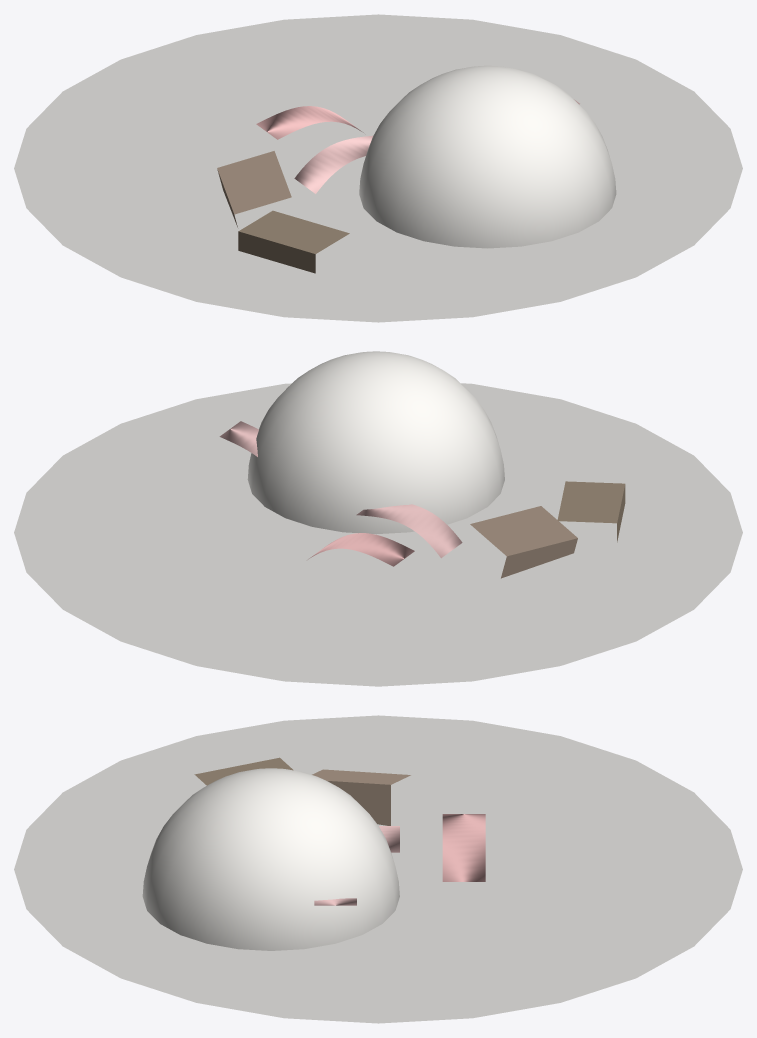
File: mariscos.glb
The picture shows the model from 3 angles, top to bottom: view 1: azimuth 30°, elevation 25°; view 2: azimuth 150°, elevation 25°; view 3: azimuth 270°, elevation 25°; orthographic projection.
Visible parts, largest first — view 1: plato, arroz, mejillon, mejillon2, camaron1, camaron2; view 2: plato, arroz, mejillon2, mejillon, camaron1, camaron2, camaron3; view 3: plato, arroz, camaron2, mejillon2, mejillon.
Boxes of the visible parts, box(x1,y1,x2,y2) form: plato: box(14, 14, 742, 322); arroz: box(359, 65, 616, 248); mejillon: box(238, 210, 349, 273); mejillon2: box(217, 151, 291, 227); camaron1: box(294, 135, 372, 193); camaron2: box(256, 106, 363, 139); plato: box(14, 383, 742, 686); arroz: box(247, 351, 504, 534); mejillon2: box(470, 506, 577, 578); mejillon: box(557, 481, 625, 542); camaron1: box(356, 504, 462, 558); camaron2: box(308, 533, 414, 566); camaron3: box(219, 421, 258, 456); plato: box(14, 715, 742, 1023); arroz: box(142, 768, 399, 950); camaron2: box(442, 814, 485, 881); mejillon2: box(312, 769, 410, 825); mejillon: box(194, 757, 293, 785).
Bounding box in the file's own units: 1.7 × 0.37 × 1.7.
